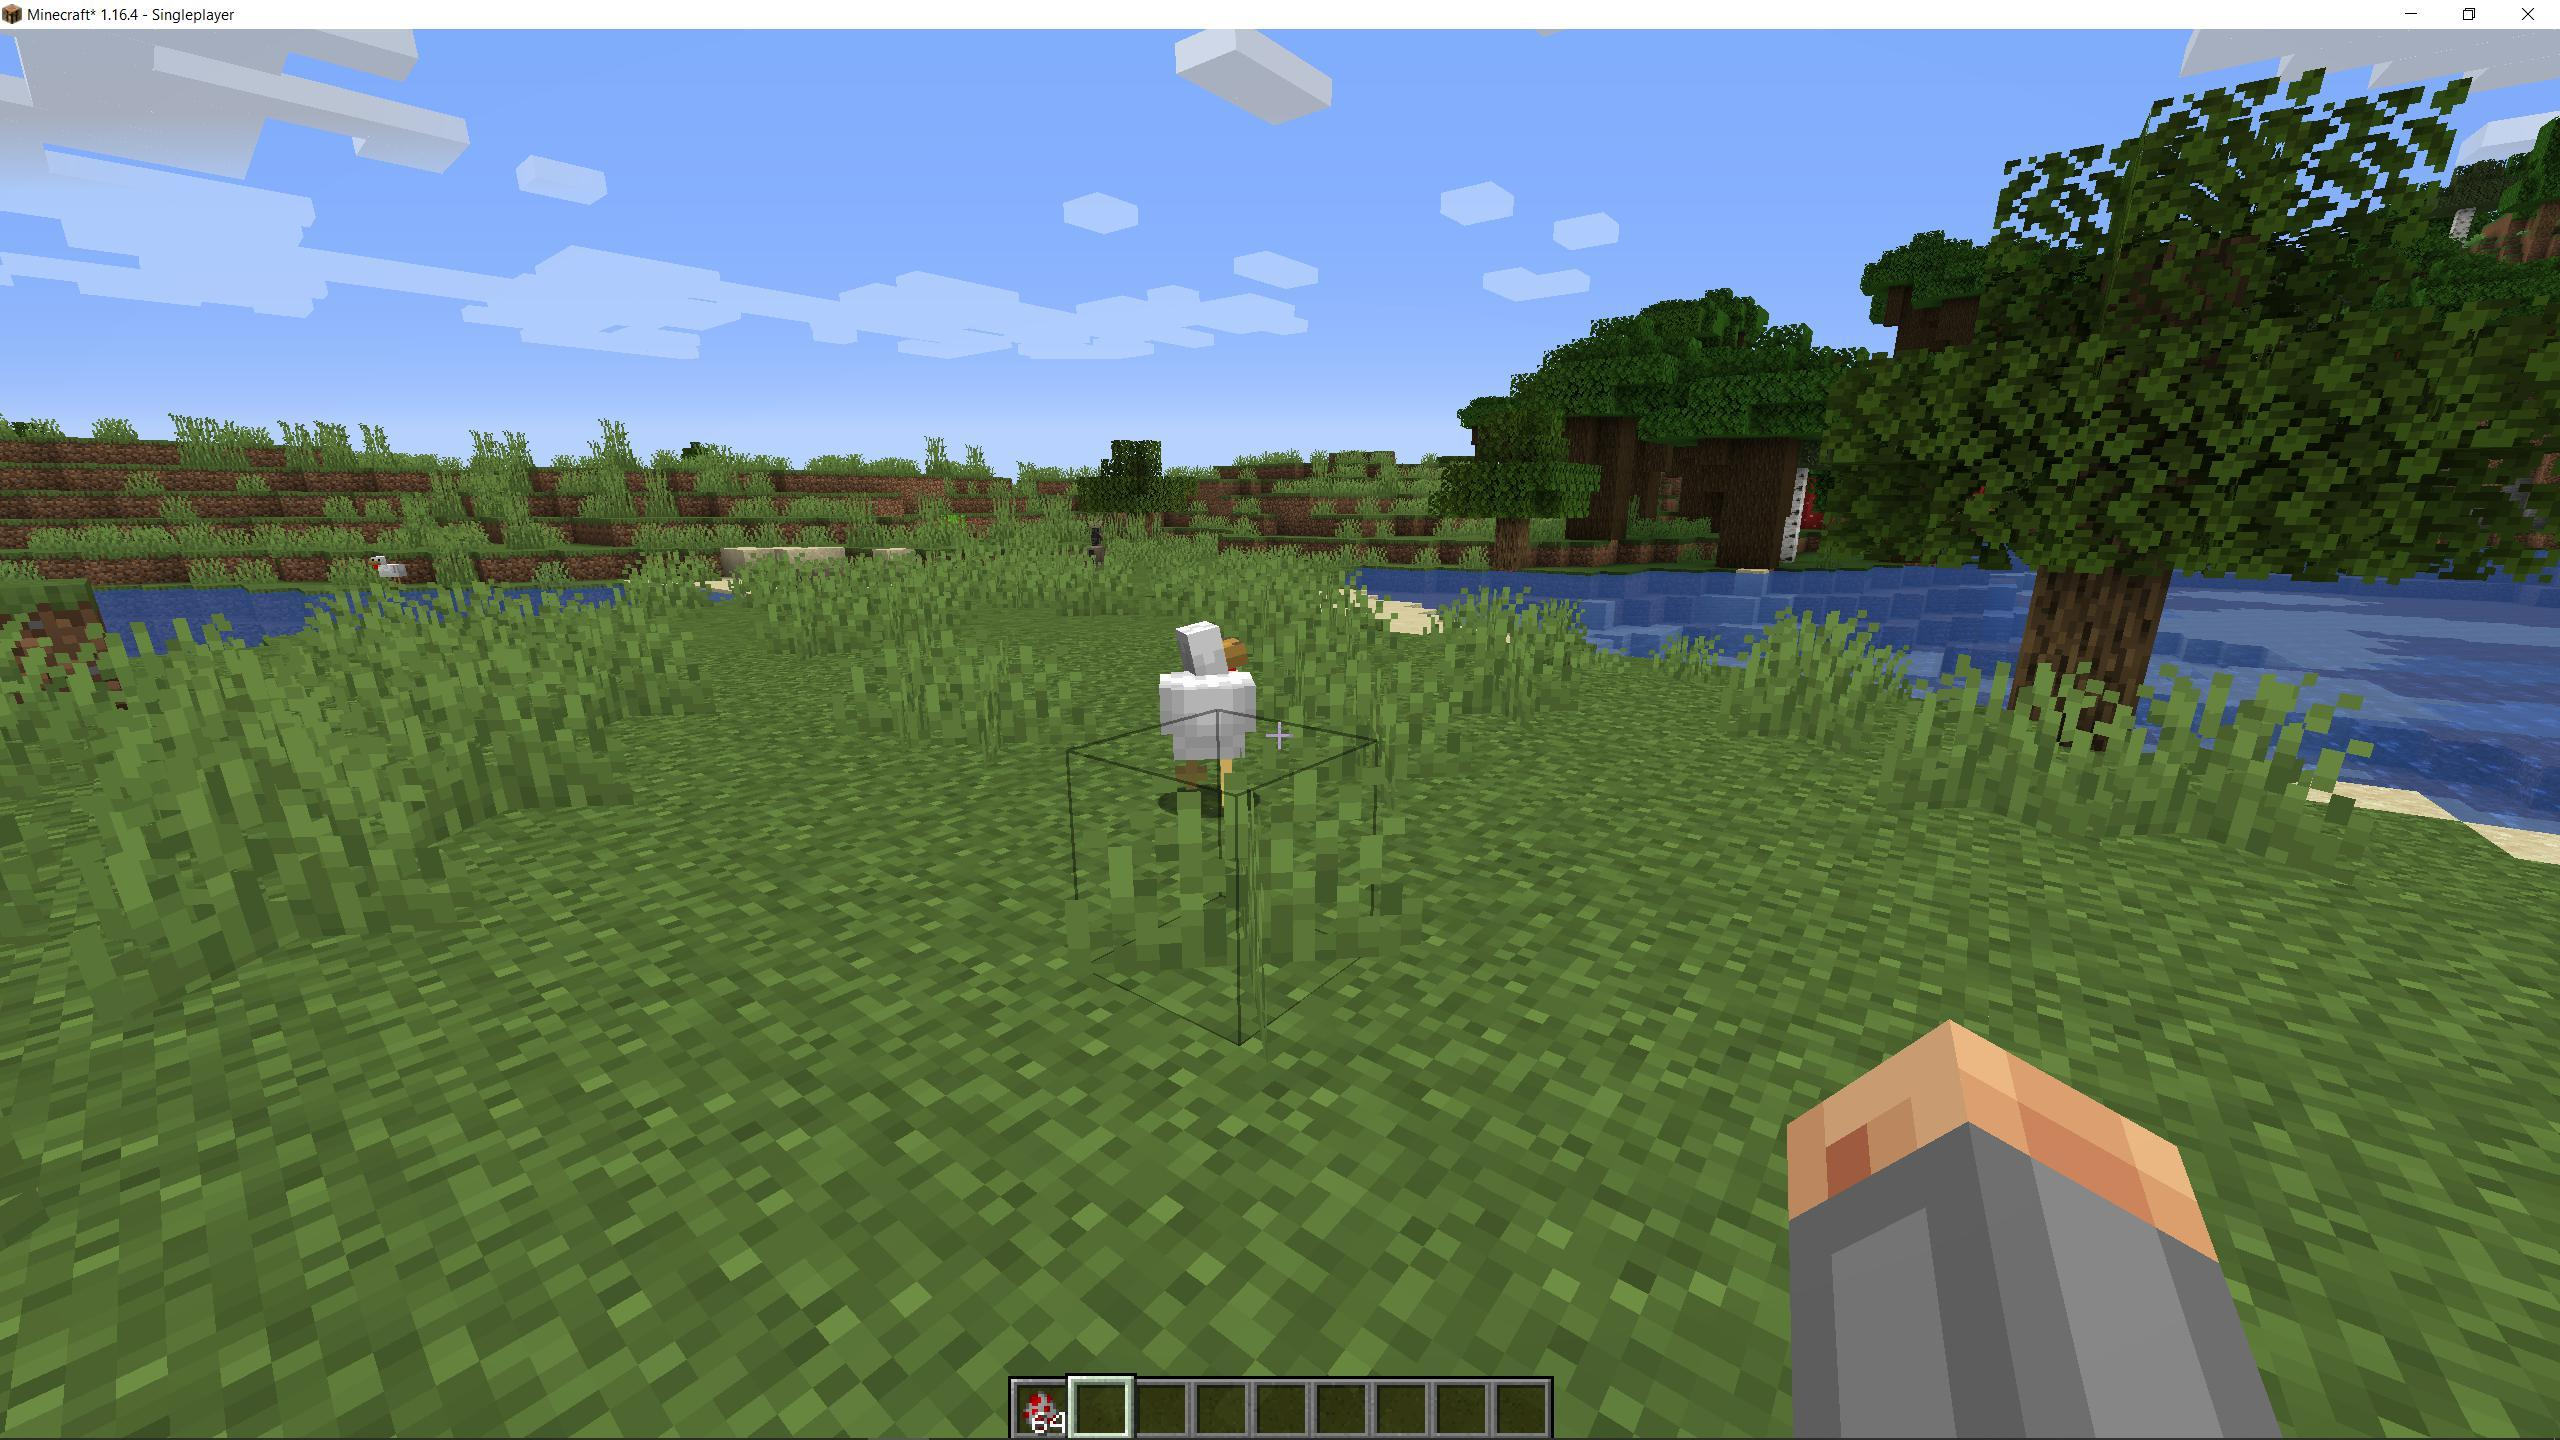chicken: (1139, 617, 1261, 814), (366, 552, 408, 594)
